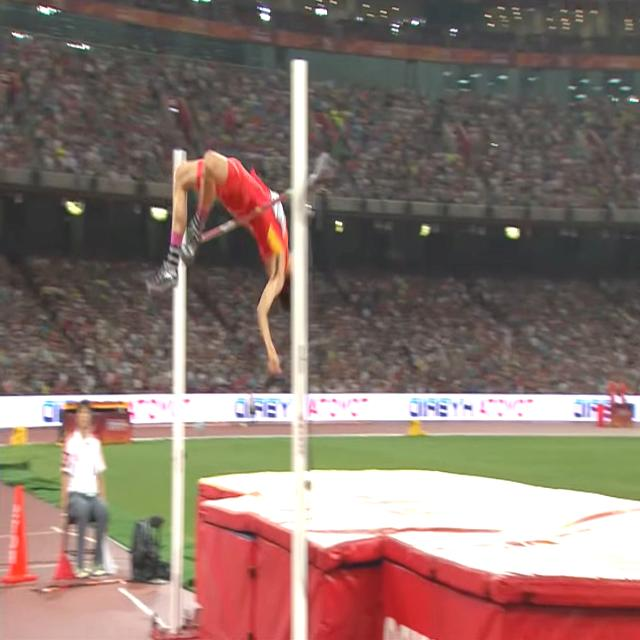jump: (146, 147, 292, 371)
